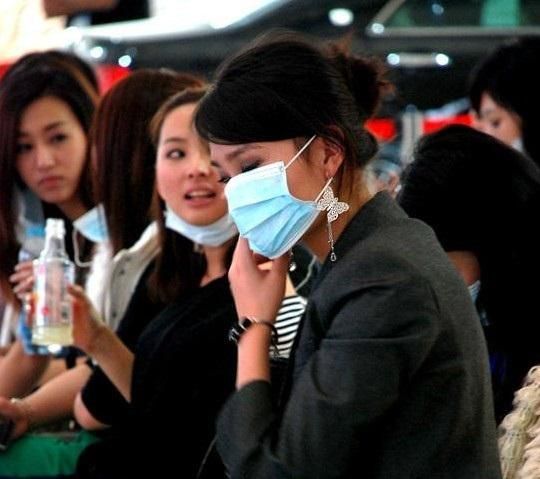NONE: (14, 121, 87, 202)
OK: (219, 138, 335, 254)
WRONG: (163, 138, 242, 237)
